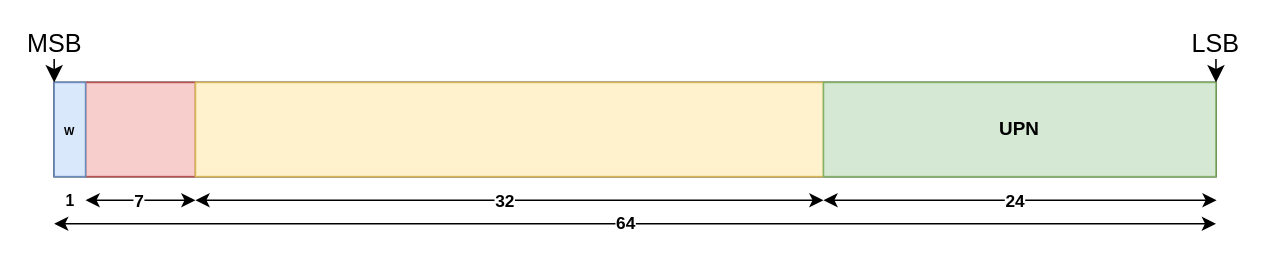
The diagram is 1267 pixels wide and 265 high, and some of its shapes have lost their labels. Here are the shapes that lost their labels. From the top down, the centre of each, then its label:
the point at 139,129: Reserved
the point at 508,129: Address
